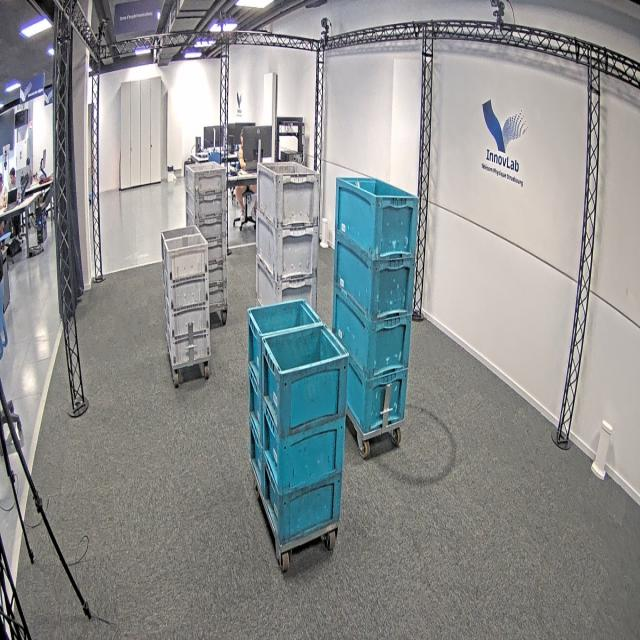Box3G: (186, 186, 228, 218), (185, 163, 227, 194), (196, 214, 228, 240), (204, 264, 230, 290), (205, 289, 229, 315), (205, 238, 228, 263)
Box4G: (255, 208, 321, 284), (257, 163, 321, 227), (255, 255, 317, 318)
Box8G: (162, 228, 208, 281), (167, 324, 211, 368), (162, 272, 208, 312), (165, 300, 210, 340)
BoxB4: (329, 286, 412, 380), (331, 233, 415, 325), (332, 176, 417, 264), (345, 366, 409, 435)
BoxB8: (265, 314, 347, 439), (262, 452, 344, 545), (263, 405, 343, 496), (246, 297, 324, 371), (246, 418, 264, 500), (248, 379, 266, 426)
